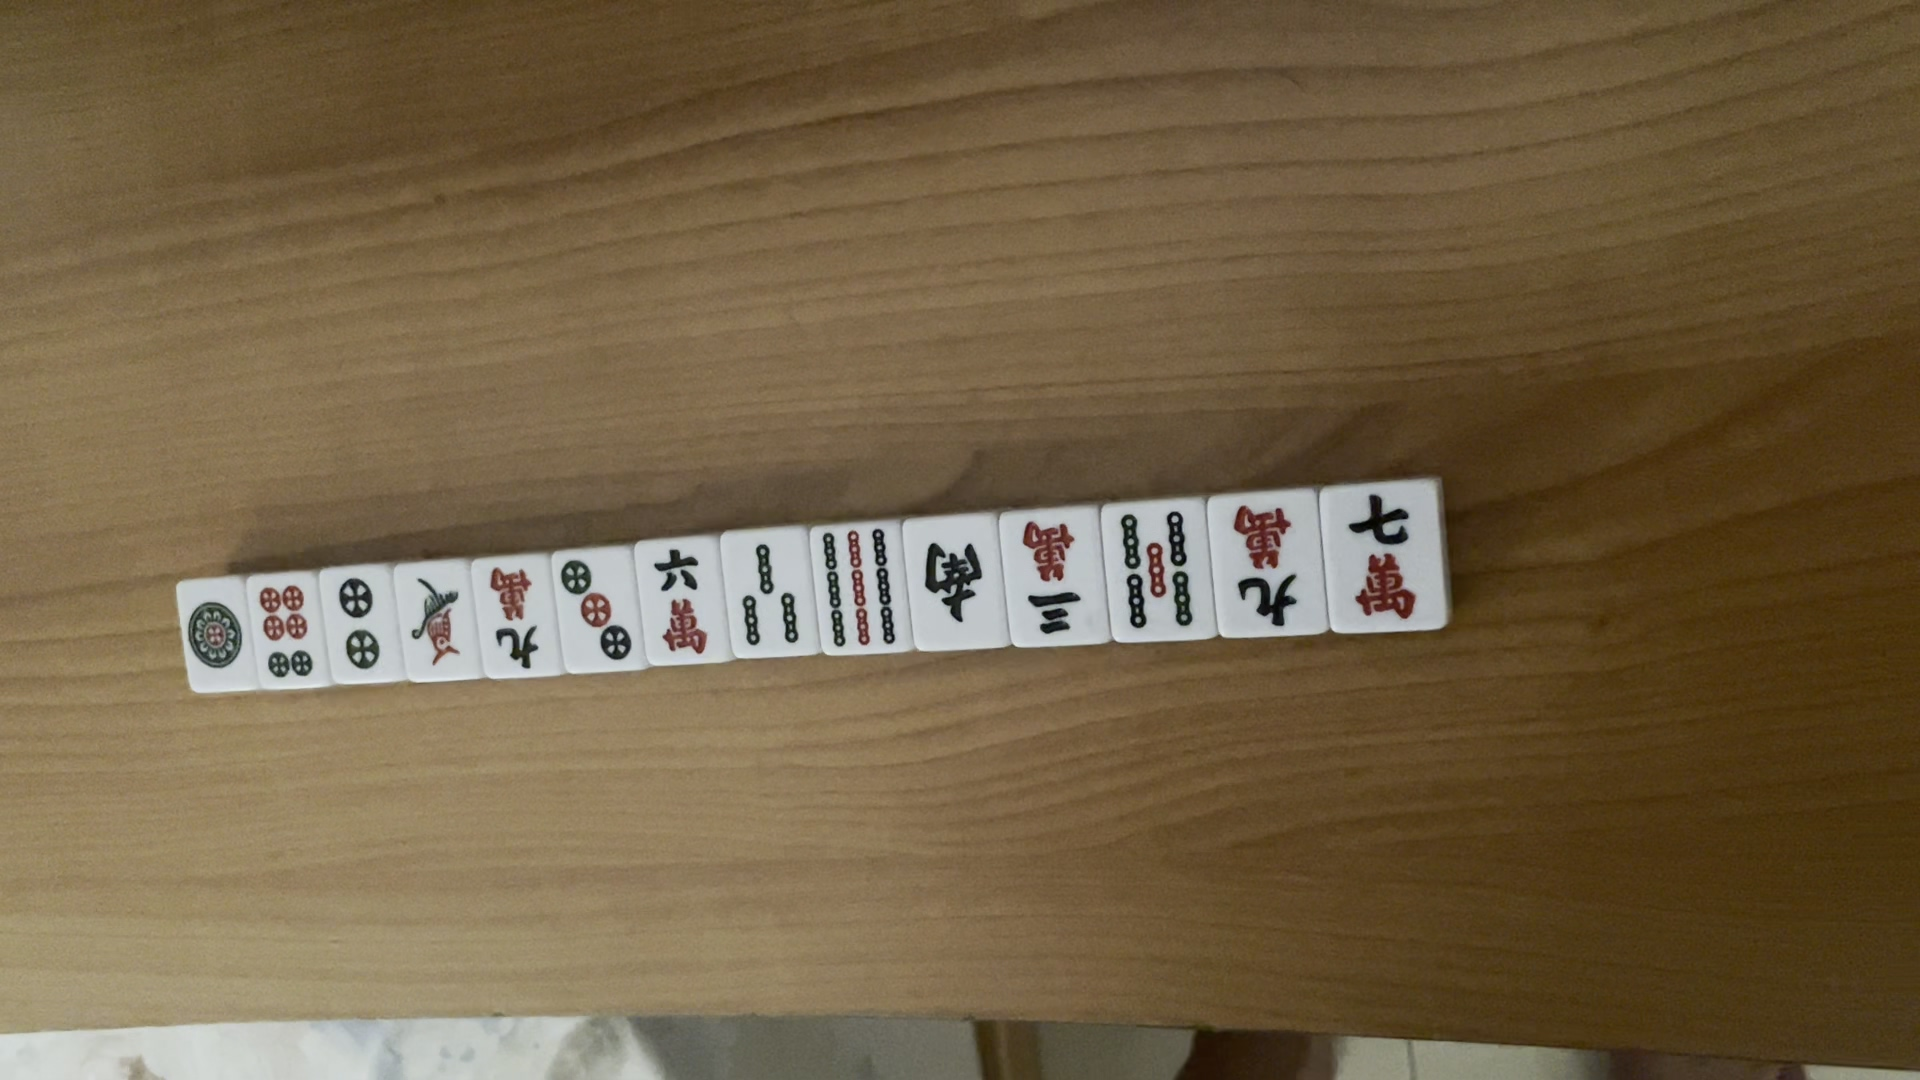b-1: (404, 574, 465, 670)
b-3: (732, 531, 803, 655)
b-5: (1112, 508, 1199, 636)
b-9: (816, 525, 897, 650)
c-3: (1015, 509, 1087, 640)
c-6: (651, 541, 715, 669)
c-7: (1344, 491, 1422, 621)
c-9: (1222, 493, 1312, 632), (484, 562, 549, 673)
d-1: (186, 592, 239, 676)
d-2: (336, 575, 382, 675)
d-3: (560, 556, 636, 669)
d-6: (260, 585, 313, 683)
honors-south: (924, 537, 992, 625)
